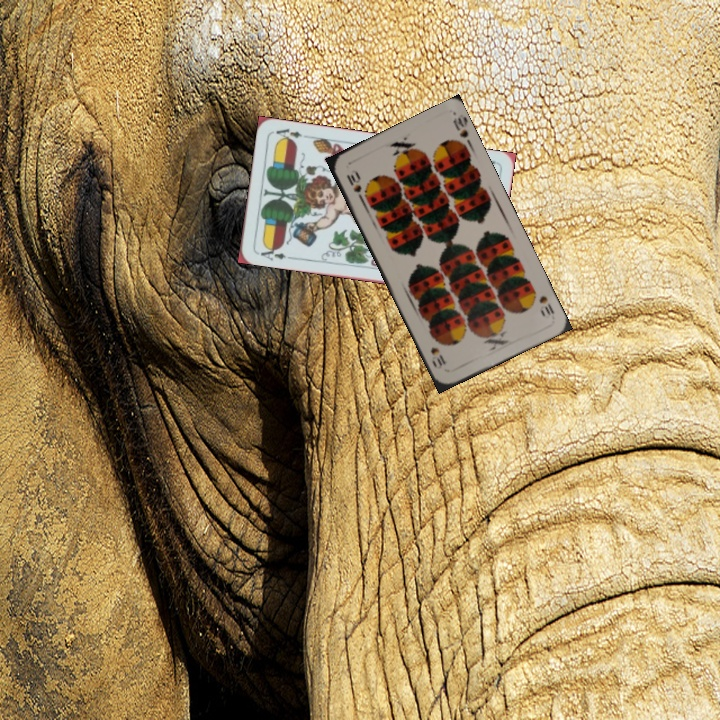EA: (254, 242, 288, 263)
S10: (342, 166, 366, 203), (535, 291, 557, 318)
